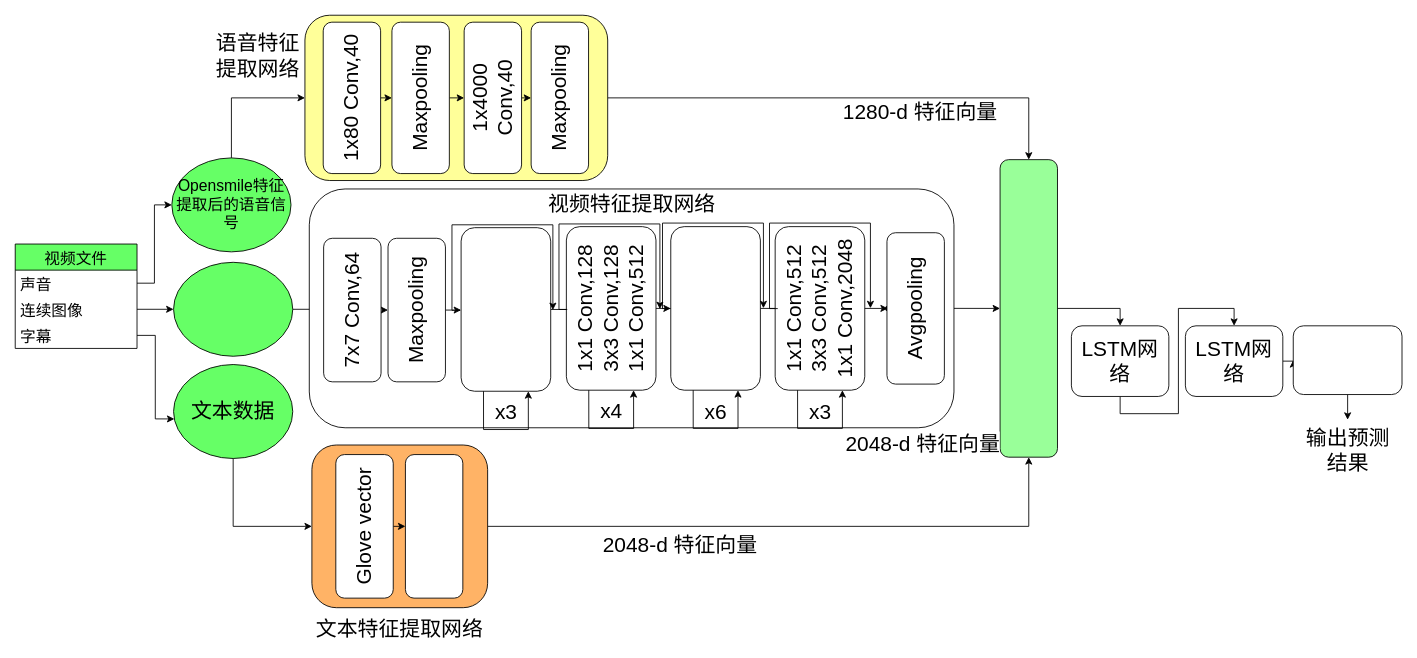
Image size: 1417x658. Some labels were removed from this diagram. The shapes that lost their labels are listed below. From the top down, each one's centre as x and y in pixels, then its label:
At [233,308]: "视频数据".
At [505,309]: "1x1 Conv,64 3x3 Conv,64 1x1 Conv,256".
At [715,308]: "1x1 Conv,256 3x3 Conv,256 1x1 Conv,1024".
At [1028,308]: "3328-d 特征向量".
At [1347,360]: "情感分类器".
At [434,526]: "BERT网络".
